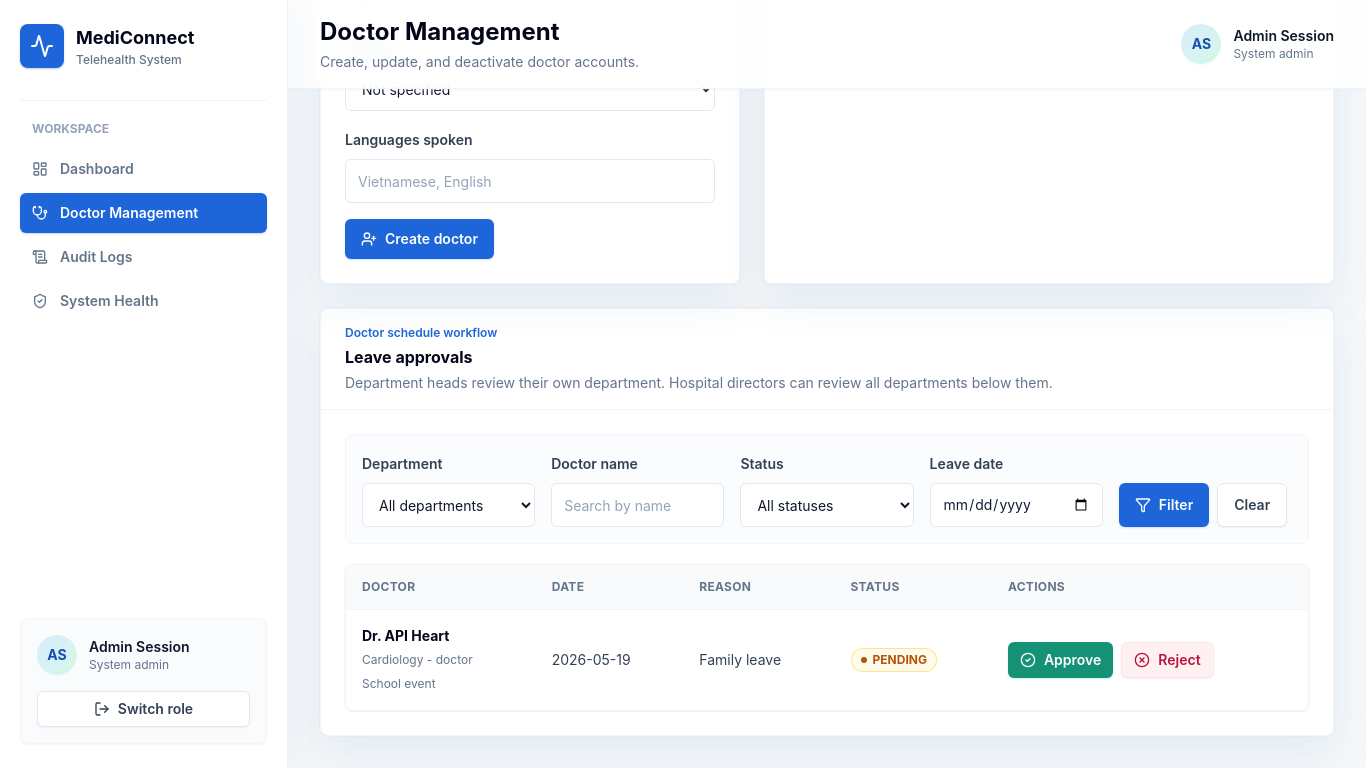
Test: Telehealth frontend routes › lets admins approve pending doctor leave requests
(page scrolled)
Expected: the text "Family leave" is shown, left=683, top=610, right=834, bottom=710
Click the button with aria-label "approve family leave leave request": (1061, 660) left=1008, top=642, right=1113, bottom=678
(page scrolled)
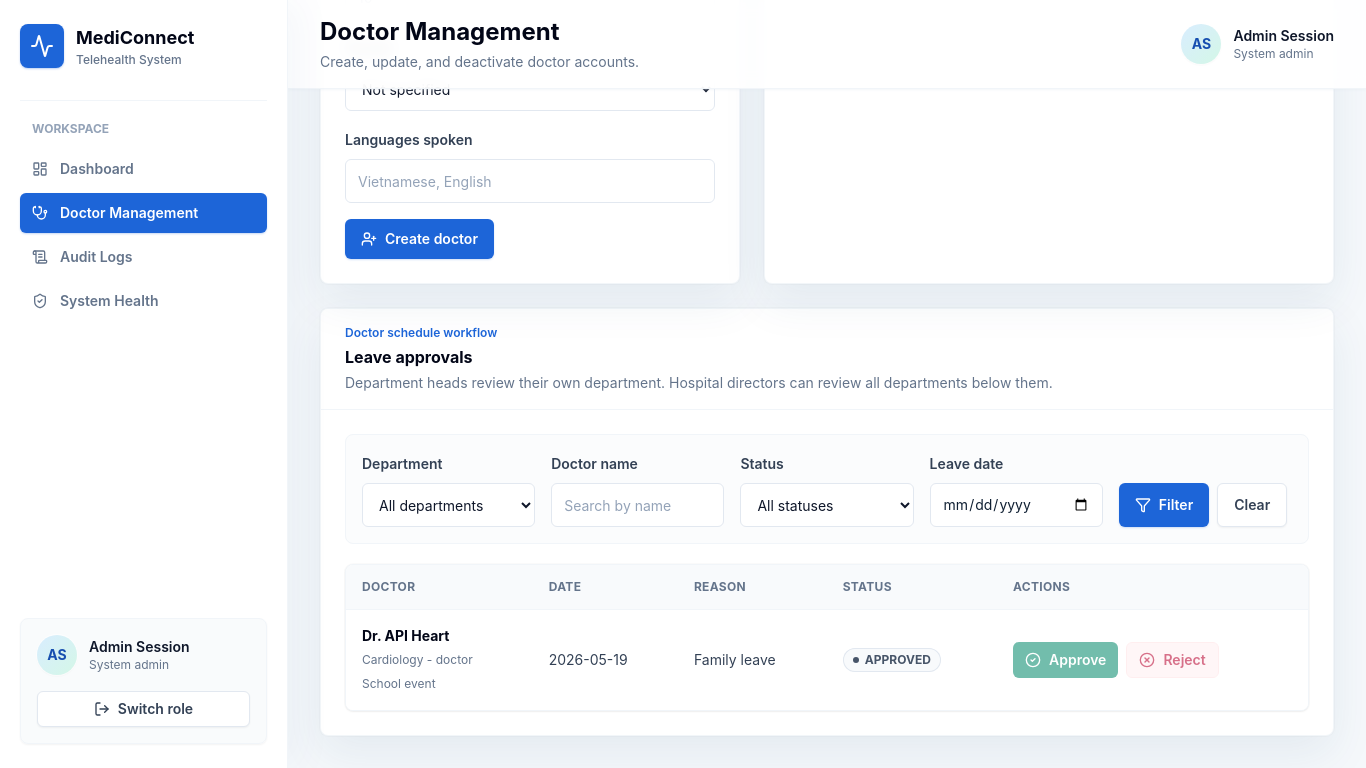
Expected: the text "APPROVED" is shown, left=843, top=648, right=941, bottom=672
